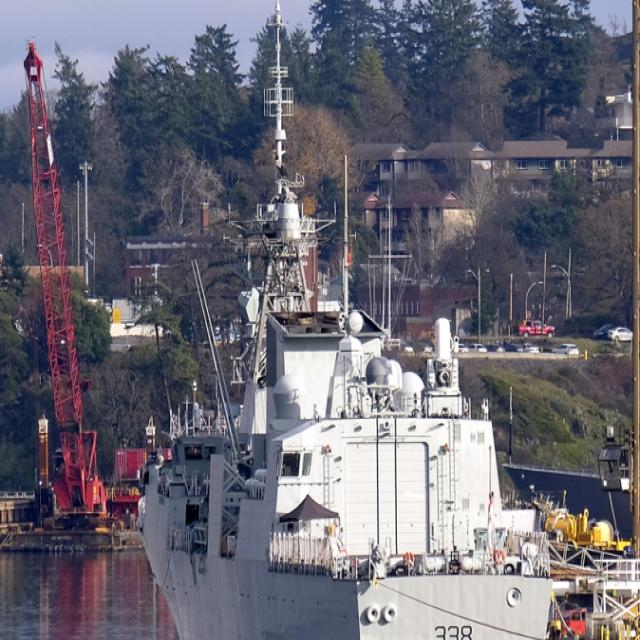Fragata: (139, 1, 560, 640)
